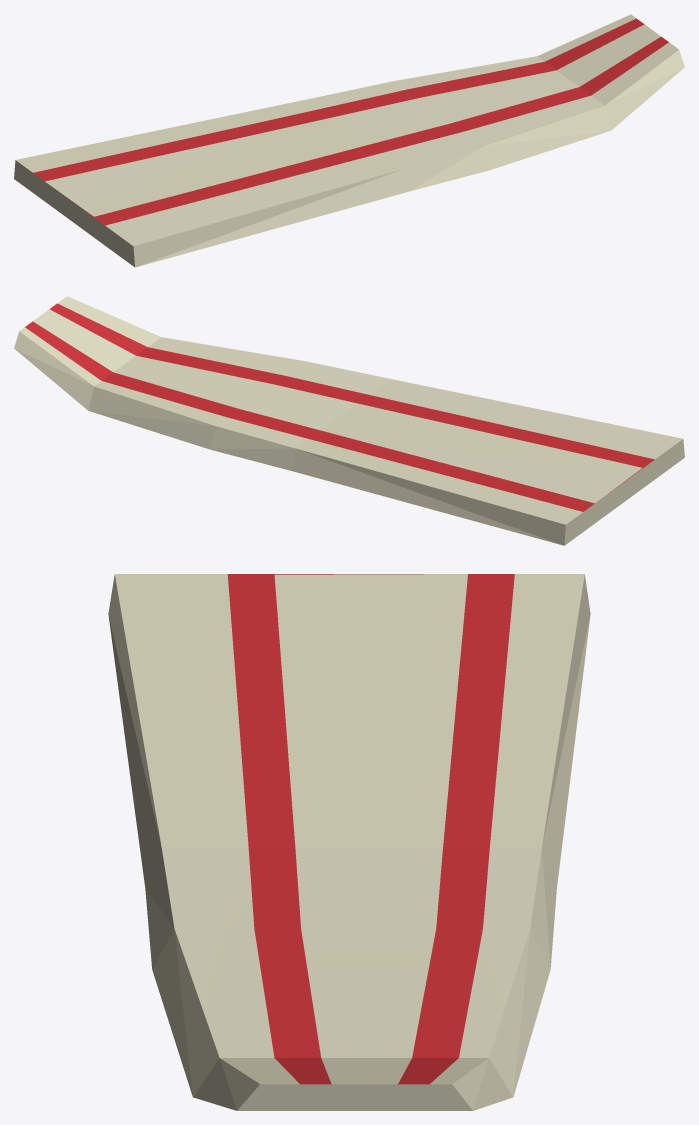
The picture shows the model from 3 angles, top to bottom: view 1: azimuth 30°, elevation 25°; view 2: azimuth 150°, elevation 25°; view 3: azimuth 270°, elevation 25°; orthographic projection. The views are drawn at different scales.
Visible parts, largest first — view 1: Object001; view 2: Object001; view 3: Object001.
Part boxes in pixels (<box>): Object001: <box>14,14,684,267</box>; Object001: <box>14,296,684,545</box>; Object001: <box>108,574,590,1110</box>.
Size of the model in its own units: 1964 by 155 by 708.
